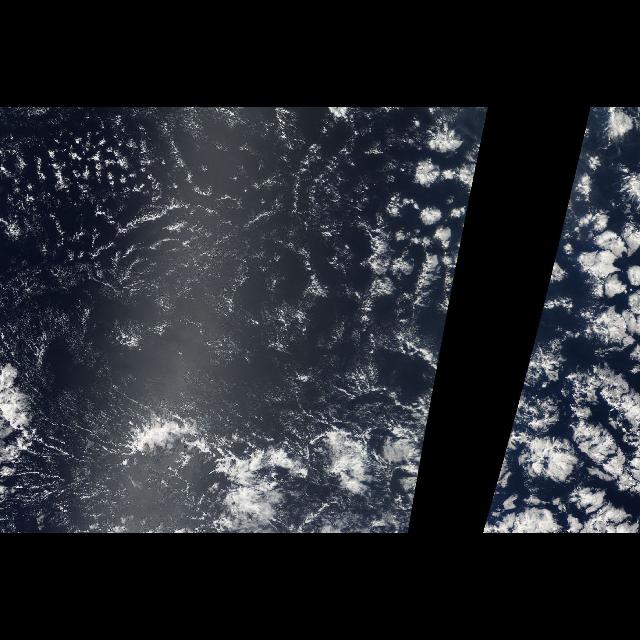Flower: (482, 117, 640, 533), (362, 117, 486, 533)
Sugar: (9, 139, 348, 533)
